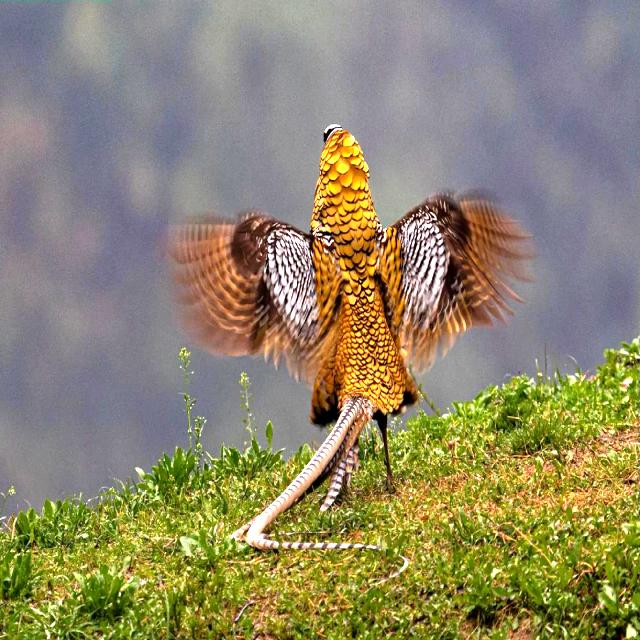Reeves-s Pheasant: (232, 396, 408, 579)
